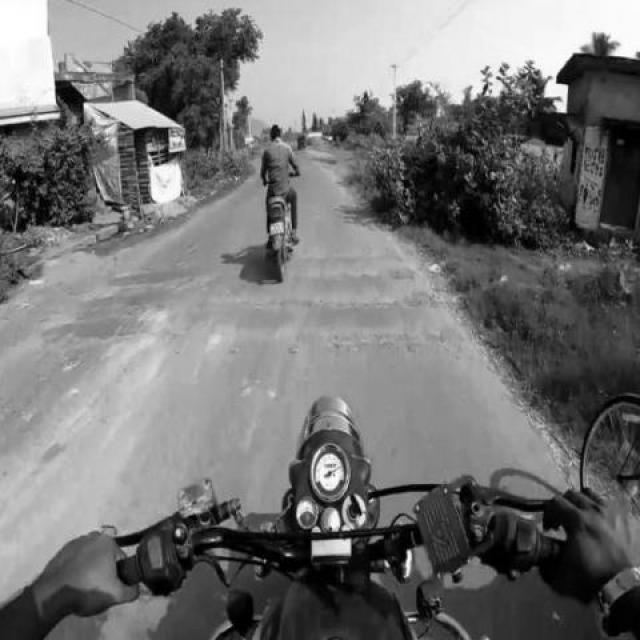Unmarked Bump: (40, 302, 452, 347), (83, 280, 424, 316), (104, 256, 418, 287)
